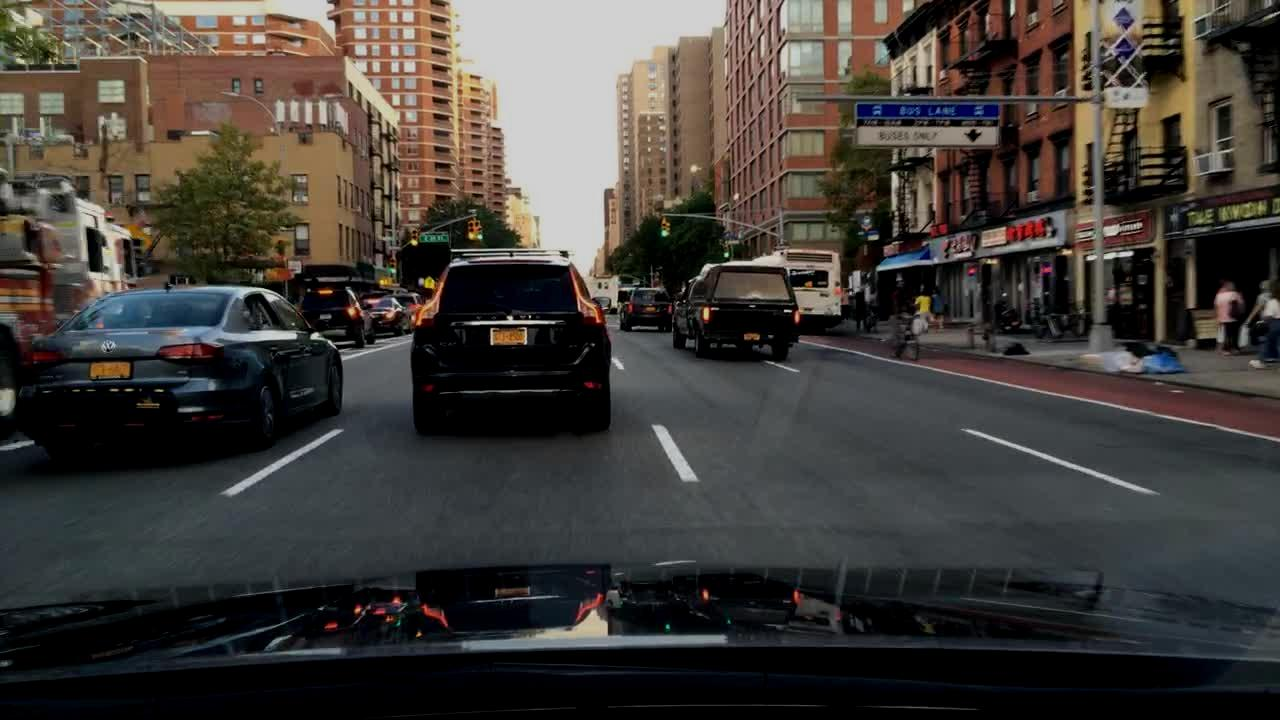Volkswagen: (100, 337, 119, 356)
